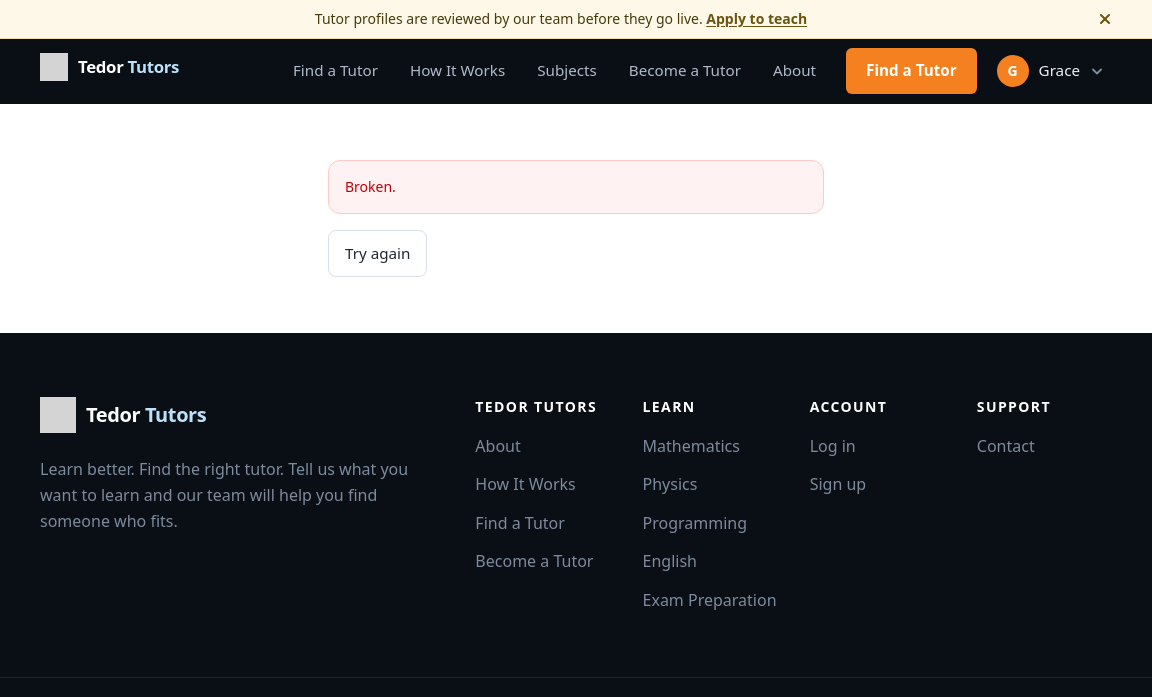
missing or unapproved tutor (Requirement 10.2) › retries the request when the visitor asks it to
Expected: the message "Broken." is shown, [328,160,824,214]
Click the button "Try again": [378, 254] box [328,230,427,277]
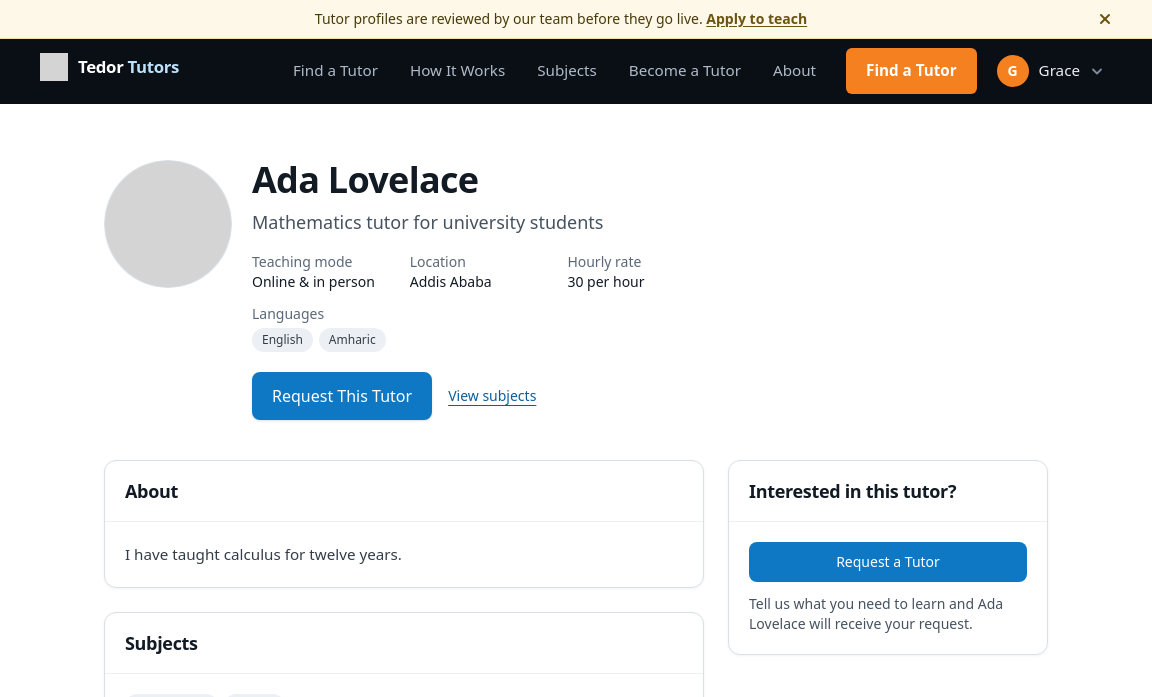
Now the heading "Ada Lovelace" is shown, box [252,155,478,204]
